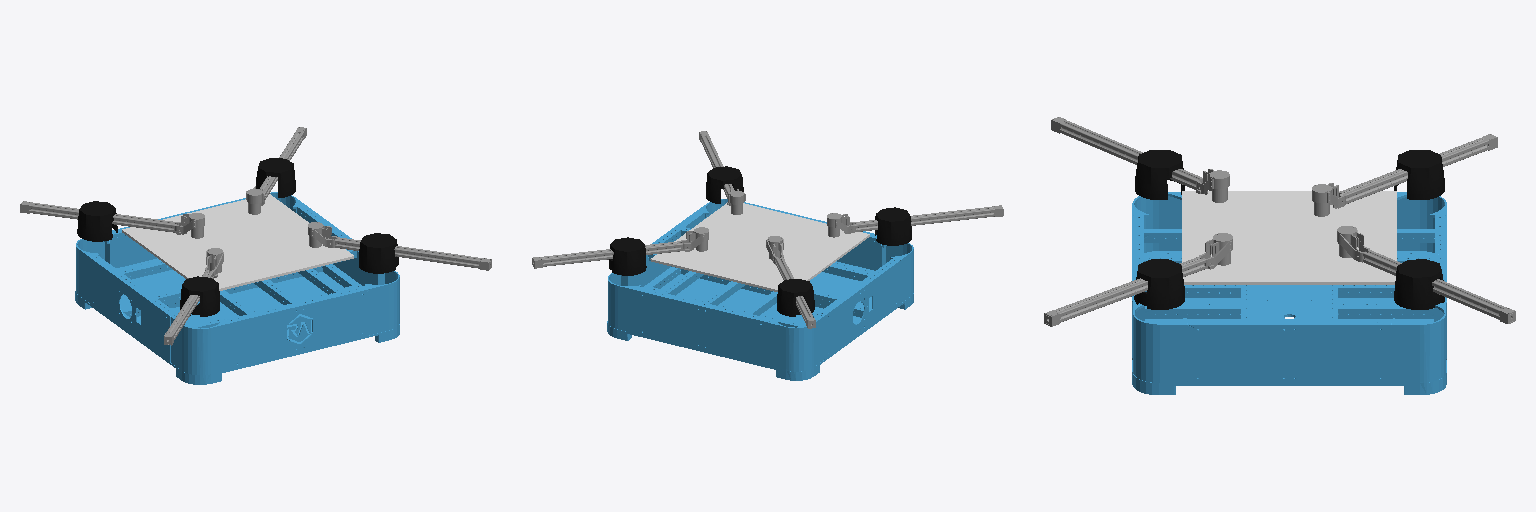
The robot description file, URDF, robot "robot":
<?xml version="1.0" ?>
<!-- Generated using onshape-to-robot -->
<!-- Onshape https://cad.onshape.com/documents/0031347e35259bad3644cd10/w/d8bc605a845f2cbf0a2bf906/e/dc9663babf9f6681d6773ecc -->
<robot name="robot">
  <!-- Link base_link -->
  <link name="base_link">
    <inertial>
      <origin xyz="0 0 0" rpy="0 0 0"/>
      <mass value="0"/>
      <inertia ixx="0" ixy="0" ixz="0" iyy="0" iyz="0" izz="0"/>
    </inertial>
  </link>
  <!-- Link chassis -->
  <link name="chassis">
    <inertial>
      <origin xyz="0 0 0" rpy="0 0 0"/>
      <mass value="0"/>
      <inertia ixx="0" ixy="0" ixz="0" iyy="0" iyz="0" izz="0"/>
    </inertial>
    <!-- Part chassis_parts -->
    <visual>
      <origin xyz="0 0 0" rpy="0 -0 0"/>
      <geometry>
        <mesh filename="package://rai_description/assets/merged/chassis_visual.stl"/>
      </geometry>
      <material name="chassis_parts_material">
        <color rgba="nan nan nan nan"/>
      </material>
    </visual>
  </link>
  <!-- Link canvas -->
  <link name="canvas">
    <inertial>
      <origin xyz="-0 -0 -0.00417976" rpy="0 0 0"/>
      <mass value="4.35842"/>
      <inertia ixx="0.10072" ixy="-0" ixz="0" iyy="0.10072" iyz="-0" izz="0.201392"/>
    </inertial>
    <!-- Part canvas_parts -->
    <visual>
      <origin xyz="-0 -0 -0.00417976" rpy="-3.14159 -0 -2.7447"/>
      <geometry>
        <mesh filename="package://rai_description/assets/merged/canvas_visual.stl"/>
      </geometry>
      <material name="canvas_parts_material">
        <color rgba="0.901961 0.901961 0.901961 1"/>
      </material>
    </visual>
  </link>
  <!-- Joint from chassis to canvas -->
  <joint name="canvas_revolute" type="continuous">
    <origin xyz="-0 0 0.166624" rpy="-3.14159 0 -2.7447"/>
    <parent link="chassis"/>
    <child link="canvas"/>
    <axis xyz="0 0 1"/>
    <limit effort="10" velocity="6"/>
    <joint_properties friction="0.5"/>
  </joint>
  <!-- Link arm_gantry -->
  <link name="arm_gantry">
    <inertial>
      <origin xyz="-0.00293932 0.00316323 -0.0259266" rpy="0 0 0"/>
      <mass value="0.195145"/>
      <inertia ixx="0.000351186" ixy="-1.6204e-05" ixz="-1.7487e-05" iyy="0.000355911" iyz="1.86021e-05" izz="0.000463081"/>
    </inertial>
    <!-- Part arm_gantry_parts -->
    <visual>
      <origin xyz="-0.00293932 0.00316323 -0.0259266" rpy="0 0 -1.41921"/>
      <geometry>
        <mesh filename="package://rai_description/assets/merged/arm_gantry_visual.stl"/>
      </geometry>
      <material name="arm_gantry_parts_material">
        <color rgba="0.117647 0.117647 0.117647 1"/>
      </material>
    </visual>
  </link>
  <!-- Link arm -->
  <link name="arm">
    <inertial>
      <origin xyz="-1.47334e-05 0.00795093 -0.30668" rpy="0 0 0"/>
      <mass value="0.516241"/>
      <inertia ixx="0.0168399" ixy="6.40609e-07" ixz="-7.46351e-07" iyy="0.0167911" iyz="-0.000598726" izz="0.000155782"/>
    </inertial>
    <!-- Part arm_parts -->
    <collision>
      <origin xyz="0.000495216 0.0114549 -0.253727" rpy="1.5708 -1.5696 2e-12"/>
      <geometry>
        <box size="0.51 0.03 0.03"/>
      </geometry>
    </collision>
    <collision>
      <origin xyz="0.000450512 -0.0085451 -0.548781" rpy="1.5708 0.821505 0"/>
      <geometry>
        <cylinder length="0.06" radius="0.025"/>
      </geometry>
    </collision>
    <visual>
      <origin xyz="-1.47334e-05 0.00795093 -0.30668" rpy="-1.5708 0.900875 3.14159"/>
      <geometry>
        <mesh filename="package://rai_description/assets/merged/arm_visual.stl"/>
      </geometry>
      <material name="arm_parts_material">
        <color rgba="0.647059 0.647059 0.647059 1"/>
      </material>
    </visual>
  </link>
  <!-- Joint from arm_gantry to arm -->
  <joint name="arm_slider_1" type="prismatic">
    <origin xyz="-0.260844 0.242656 -0.0135128" rpy="-1.5708 0 0.821505"/>
    <parent link="arm_gantry"/>
    <child link="arm"/>
    <axis xyz="0 0 1"/>
    <limit effort="10" velocity="6" lower="-0.277756" upper="0.0742877"/>
    <joint_properties friction="0.5"/>
  </joint>
  <!-- Joint from chassis to arm_gantry -->
  <joint name="arm_revolute_1" type="revolute">
    <origin xyz="-0.306801 -0.306801 0.233705" rpy="-0 -0 1.41921"/>
    <parent link="chassis"/>
    <child link="arm_gantry"/>
    <axis xyz="0 0 1"/>
    <limit effort="10" velocity="6" lower="-3.141592653589793" upper="3.141592653589793"/>
    <joint_properties friction="0.5"/>
  </joint>
  <!-- Link arm_gantry_2 -->
  <link name="arm_gantry_2">
    <inertial>
      <origin xyz="-0.00293932 0.00316323 -0.0259266" rpy="0 0 0"/>
      <mass value="0.195145"/>
      <inertia ixx="0.000351186" ixy="-1.6204e-05" ixz="-1.7487e-05" iyy="0.000355911" iyz="1.86021e-05" izz="0.000463081"/>
    </inertial>
    <!-- Part arm_gantry_2_parts -->
    <visual>
      <origin xyz="-0.00293932 0.00316323 -0.0259266" rpy="0 0 -3.03808"/>
      <geometry>
        <mesh filename="package://rai_description/assets/merged/arm_gantry_2_visual.stl"/>
      </geometry>
      <material name="arm_gantry_2_parts_material">
        <color rgba="0.117647 0.117647 0.117647 1"/>
      </material>
    </visual>
  </link>
  <!-- Link arm_2 -->
  <link name="arm_2">
    <inertial>
      <origin xyz="-1.47334e-05 0.00795093 -0.30668" rpy="0 0 0"/>
      <mass value="0.516241"/>
      <inertia ixx="0.0168399" ixy="6.40609e-07" ixz="-7.46351e-07" iyy="0.0167911" iyz="-0.000598726" izz="0.000155782"/>
    </inertial>
    <!-- Part arm_2_parts -->
    <collision>
      <origin xyz="0.000495216 0.0114549 -0.253727" rpy="1.5708 -1.5696 2e-12"/>
      <geometry>
        <box size="0.51 0.03 0.03"/>
      </geometry>
    </collision>
    <collision>
      <origin xyz="0.000450512 -0.0085451 -0.548781" rpy="1.5708 0.821505 0"/>
      <geometry>
        <cylinder length="0.06" radius="0.025"/>
      </geometry>
    </collision>
    <visual>
      <origin xyz="-1.47334e-05 0.00795093 -0.30668" rpy="-1.5708 -0.717995 3.14159"/>
      <geometry>
        <mesh filename="package://rai_description/assets/merged/arm_2_visual.stl"/>
      </geometry>
      <material name="arm_2_parts_material">
        <color rgba="0.647059 0.647059 0.647059 1"/>
      </material>
    </visual>
  </link>
  <!-- Joint from arm_gantry_2 to arm_2 -->
  <joint name="arm_slider_2" type="prismatic">
    <origin xyz="-0.257023 0.239102 -0.0135128" rpy="-1.5708 0 0.821505"/>
    <parent link="arm_gantry_2"/>
    <child link="arm_2"/>
    <axis xyz="0 0 1"/>
    <limit effort="10" velocity="6" lower="-0.272538" upper="0.0795063"/>
    <joint_properties friction="0.5"/>
  </joint>
  <!-- Joint from chassis to arm_gantry_2 -->
  <joint name="arm_revolute_2" type="revolute">
    <origin xyz="0.306801 -0.306801 0.233705" rpy="-0 0 3.03808"/>
    <parent link="chassis"/>
    <child link="arm_gantry_2"/>
    <axis xyz="0 0 1"/>
    <limit effort="10" velocity="6" lower="-3.141592653589793" upper="3.141592653589793"/>
    <joint_properties friction="0.5"/>
  </joint>
  <!-- Link arm_gantry_3 -->
  <link name="arm_gantry_3">
    <inertial>
      <origin xyz="-0.00293932 0.00316323 -0.0259266" rpy="0 0 0"/>
      <mass value="0.195145"/>
      <inertia ixx="0.000351186" ixy="-1.6204e-05" ixz="-1.7487e-05" iyy="0.000355911" iyz="1.86021e-05" izz="0.000463081"/>
    </inertial>
    <!-- Part arm_gantry_3_parts -->
    <visual>
      <origin xyz="-0.00293932 0.00316323 -0.0259266" rpy="0 0 1.48206"/>
      <geometry>
        <mesh filename="package://rai_description/assets/merged/arm_gantry_3_visual.stl"/>
      </geometry>
      <material name="arm_gantry_3_parts_material">
        <color rgba="0.117647 0.117647 0.117647 1"/>
      </material>
    </visual>
  </link>
  <!-- Link arm_3 -->
  <link name="arm_3">
    <inertial>
      <origin xyz="-1.47334e-05 0.00795093 -0.30668" rpy="0 0 0"/>
      <mass value="0.516241"/>
      <inertia ixx="0.0168399" ixy="6.40609e-07" ixz="-7.46351e-07" iyy="0.0167911" iyz="-0.000598726" izz="0.000155782"/>
    </inertial>
    <!-- Part arm_3_parts -->
    <collision>
      <origin xyz="0.000495216 0.0114549 -0.253727" rpy="1.5708 -1.5696 2e-12"/>
      <geometry>
        <box size="0.51 0.03 0.03"/>
      </geometry>
    </collision>
    <collision>
      <origin xyz="0.000450512 -0.0085451 -0.548781" rpy="1.5708 0.821505 0"/>
      <geometry>
        <cylinder length="0.06" radius="0.025"/>
      </geometry>
    </collision>
    <visual>
      <origin xyz="-1.47334e-05 0.00795093 -0.30668" rpy="1.5708 -0.660552 0"/>
      <geometry>
        <mesh filename="package://rai_description/assets/merged/arm_3_visual.stl"/>
      </geometry>
      <material name="arm_3_parts_material">
        <color rgba="0.647059 0.647059 0.647059 1"/>
      </material>
    </visual>
  </link>
  <!-- Joint from arm_gantry_3 to arm_3 -->
  <joint name="arm_slider_3" type="prismatic">
    <origin xyz="-0.22511 0.209414 -0.0135128" rpy="-1.5708 0 0.821505"/>
    <parent link="arm_gantry_3"/>
    <child link="arm_3"/>
    <axis xyz="0 0 1"/>
    <limit effort="10" velocity="6" lower="-0.228952" upper="0.123092"/>
    <joint_properties friction="0.5"/>
  </joint>
  <!-- Joint from chassis to arm_gantry_3 -->
  <joint name="arm_revolute_3" type="revolute">
    <origin xyz="0.306801 0.306801 0.233705" rpy="0 -0 -1.48206"/>
    <parent link="chassis"/>
    <child link="arm_gantry_3"/>
    <axis xyz="0 0 1"/>
    <limit effort="10" velocity="6" lower="-3.141592653589793" upper="3.141592653589793"/>
    <joint_properties friction="0.5"/>
  </joint>
  <!-- Link arm_gantry_4 -->
  <link name="arm_gantry_4">
    <inertial>
      <origin xyz="-0.00293932 0.00316323 -0.0259266" rpy="0 0 0"/>
      <mass value="0.195145"/>
      <inertia ixx="0.000351186" ixy="-1.6204e-05" ixz="-1.7487e-05" iyy="0.000355911" iyz="1.86021e-05" izz="0.000463081"/>
    </inertial>
    <!-- Part arm_gantry_4_parts -->
    <visual>
      <origin xyz="-0.00293932 0.00316323 -0.0259266" rpy="0 0 0.0856695"/>
      <geometry>
        <mesh filename="package://rai_description/assets/merged/arm_gantry_4_visual.stl"/>
      </geometry>
      <material name="arm_gantry_4_parts_material">
        <color rgba="0.117647 0.117647 0.117647 1"/>
      </material>
    </visual>
  </link>
  <!-- Link arm_4 -->
  <link name="arm_4">
    <inertial>
      <origin xyz="-1.47334e-05 0.00795093 -0.30668" rpy="0 0 0"/>
      <mass value="0.516241"/>
      <inertia ixx="0.0168399" ixy="6.40609e-07" ixz="-7.46351e-07" iyy="0.0167911" iyz="-0.000598726" izz="0.000155782"/>
    </inertial>
    <!-- Part arm_4_parts -->
    <collision>
      <origin xyz="0.000495216 0.0114549 -0.253727" rpy="1.5708 -1.5696 2e-12"/>
      <geometry>
        <box size="0.51 0.03 0.03"/>
      </geometry>
    </collision>
    <collision>
      <origin xyz="0.000450512 -0.0085451 -0.548781" rpy="1.5708 0.821505 0"/>
      <geometry>
        <cylinder length="0.06" radius="0.025"/>
      </geometry>
    </collision>
    <visual>
      <origin xyz="-1.47334e-05 0.00795093 -0.30668" rpy="1.5708 0.735836 0"/>
      <geometry>
        <mesh filename="package://rai_description/assets/merged/arm_4_visual.stl"/>
      </geometry>
      <material name="arm_4_parts_material">
        <color rgba="0.647059 0.647059 0.647059 1"/>
      </material>
    </visual>
  </link>
  <!-- Joint from arm_gantry_4 to arm_4 -->
  <joint name="arm_slider_4" type="prismatic">
    <origin xyz="-0.173713 0.1616 -0.0135128" rpy="-1.5708 0 0.821505"/>
    <parent link="arm_gantry_4"/>
    <child link="arm_4"/>
    <axis xyz="0 0 1"/>
    <limit effort="10" velocity="6" lower="-0.158753" upper="0.193291"/>
    <joint_properties friction="0.5"/>
  </joint>
  <!-- Joint from chassis to arm_gantry_4 -->
  <joint name="arm_revolute_4" type="revolute">
    <origin xyz="-0.306801 0.306801 0.233705" rpy="-0 -0 -0.0856695"/>
    <parent link="chassis"/>
    <child link="arm_gantry_4"/>
    <axis xyz="0 0 1"/>
    <limit effort="10" velocity="6" lower="-3.141592653589793" upper="3.141592653589793"/>
    <joint_properties friction="0.5"/>
  </joint>
  <!-- Joint from base_link to chassis -->
  <joint name="base_link_to_chassis" type="fixed">
    <origin xyz="0 0 0" rpy="0 -0 0"/>
    <parent link="base_link"/>
    <child link="chassis"/>
    <axis xyz="0 0 1"/>
    <limit effort="10" velocity="10"/>
  </joint>
</robot>

--- Facts derived from the render (not from the file) ---
The picture shows the robot from 3 angles, left to right: view 1: azimuth 30°, elevation 25°; view 2: azimuth 150°, elevation 25°; view 3: azimuth 270°, elevation 25°; orthographic projection.
Robot: robot — 11 links, 10 joints (4 revolute, 1 continuous, 4 prismatic, 1 fixed); root link base_link; default pose: every joint at zero.
Links seen in each view (by area): view 1: chassis, canvas, arm_2, arm_4, arm_gantry_2, arm_gantry_4, arm_gantry, arm, arm_gantry_3, arm_3; view 2: chassis, canvas, arm_3, arm, arm_gantry_3, arm_gantry, arm_gantry_4, arm_4, arm_gantry_2, arm_2; view 3: chassis, canvas, arm_2, arm_4, arm_3, arm, arm_gantry_3, arm_gantry_2, arm_gantry_4, arm_gantry.
Link boxes in pixels (box(x1,y1,x2,y2)): chassis: box(75, 192, 399, 384); canvas: box(122, 194, 353, 290); arm_2: box(308, 222, 491, 270); arm_4: box(20, 201, 204, 238); arm_gantry_2: box(359, 233, 398, 273); arm_gantry_4: box(77, 201, 117, 241); arm_gantry: box(180, 276, 219, 316); arm: box(164, 248, 223, 345); arm_gantry_3: box(256, 158, 295, 197); arm_3: box(246, 127, 306, 214); chassis: box(607, 199, 913, 380); canvas: box(650, 203, 869, 291); arm_3: box(532, 227, 708, 268); arm: box(827, 205, 1003, 237); arm_gantry_3: box(609, 237, 646, 275); arm_gantry: box(875, 207, 911, 245); arm_gantry_4: box(777, 279, 814, 316); arm_4: box(766, 236, 815, 328); arm_gantry_2: box(706, 166, 743, 203); arm_2: box(699, 131, 745, 214); chassis: box(1132, 192, 1446, 394); canvas: box(1182, 191, 1396, 284); arm_2: box(1044, 233, 1232, 326); arm_4: box(1312, 134, 1497, 216); arm_3: box(1337, 226, 1515, 323); arm: box(1051, 117, 1229, 202); arm_gantry_3: box(1394, 259, 1444, 309); arm_gantry_2: box(1134, 259, 1184, 309); arm_gantry_4: box(1394, 150, 1444, 199); arm_gantry: box(1135, 150, 1184, 199).
Size in the robot's own frame: 1.12 by 1.11 by 0.3217 metres.
Meshes: 10 distinct files referenced, 10 mesh visuals loaded (10 binary STL).
